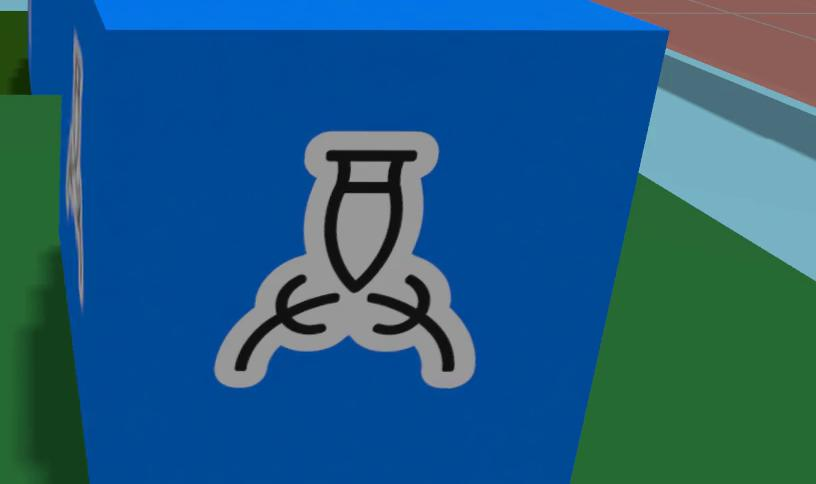KFS_REAL: (62, 0, 667, 483), (215, 131, 474, 388)
